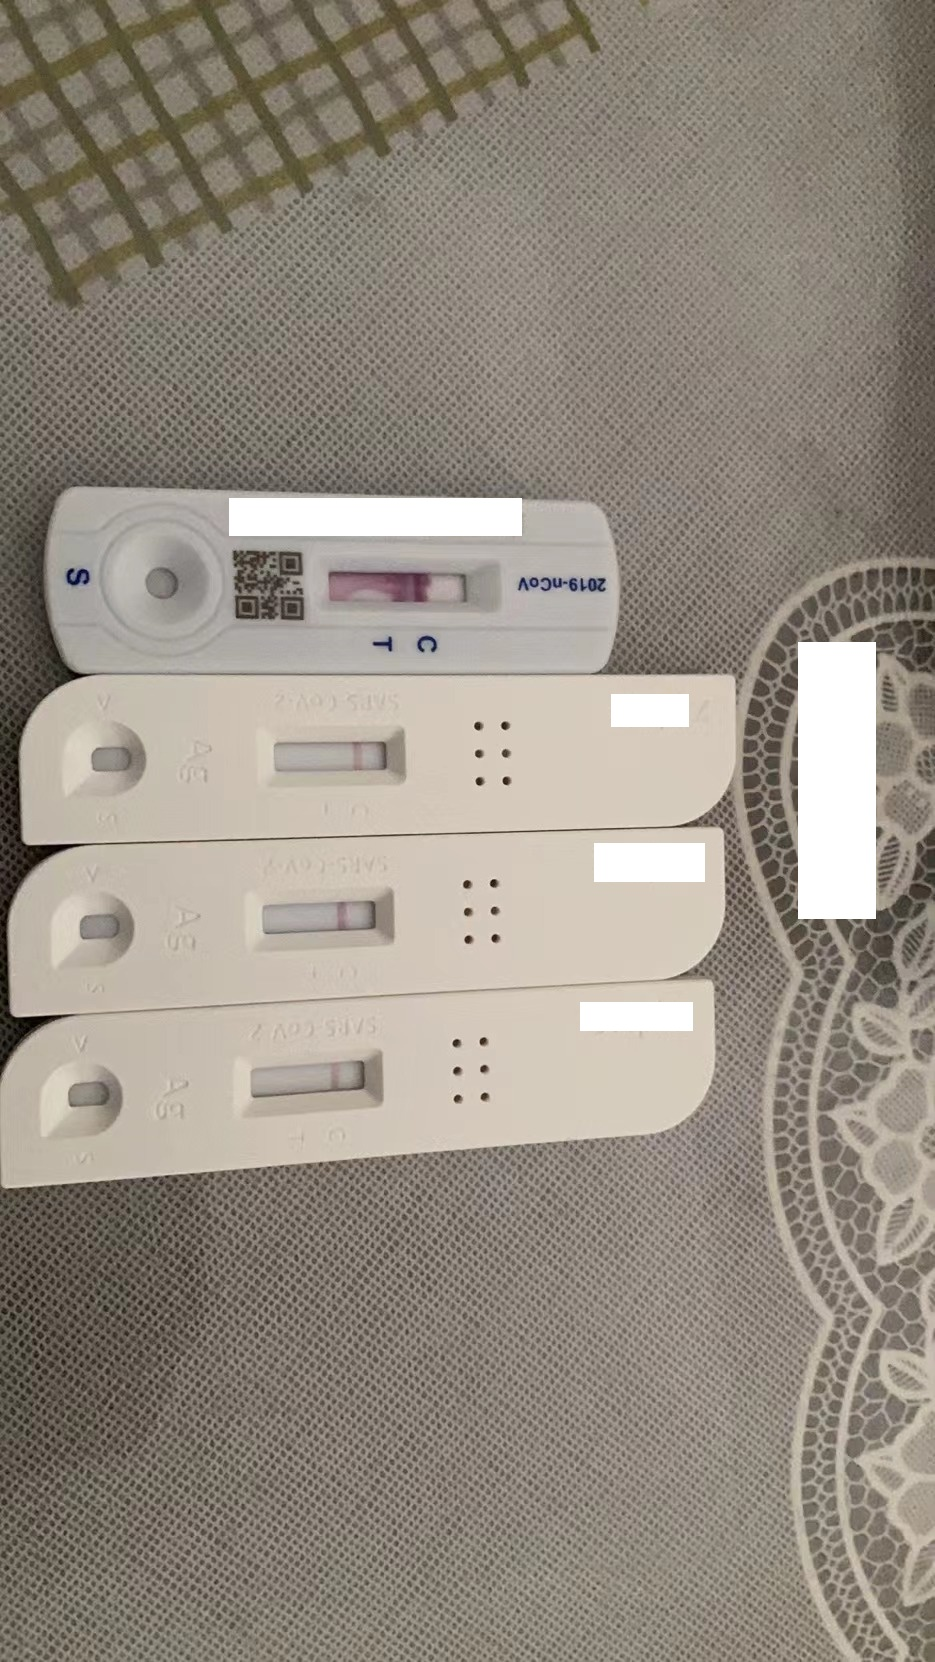negative: (251, 731, 411, 784), (247, 889, 390, 947), (232, 1060, 388, 1112)
